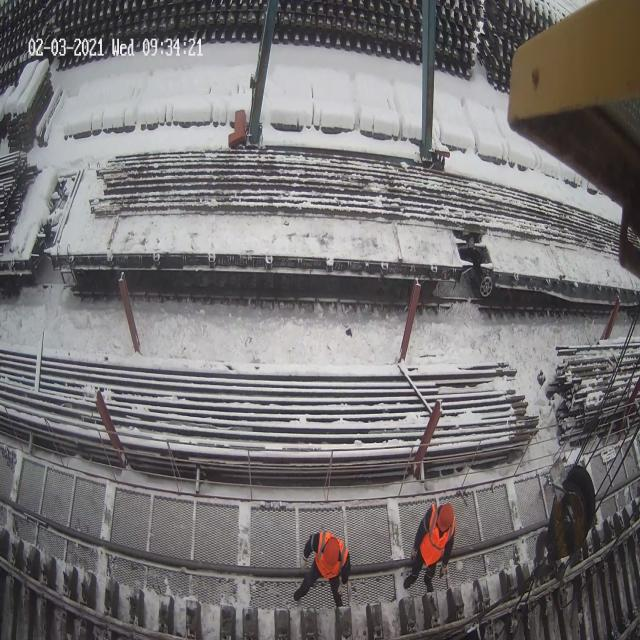Helmet: (314, 530, 343, 580), (436, 503, 454, 533)
Person: (404, 501, 456, 593), (293, 530, 351, 607)
